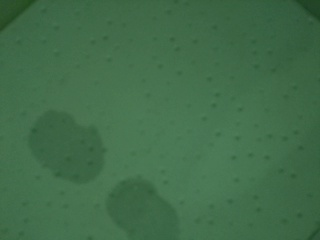Water_detected: (30, 122, 96, 181), (113, 179, 169, 237)
